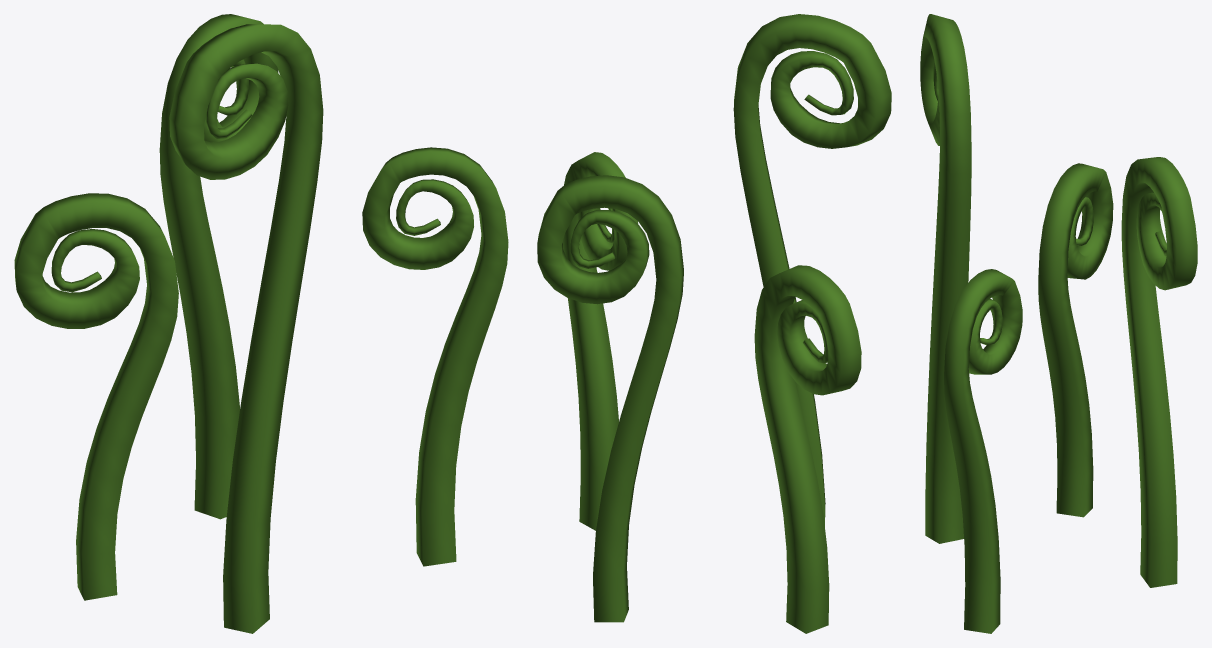
The model's file is Plant_3-transformed.glb.
3 renders of one model, left to right at view 1: azimuth 30°, elevation 25°; view 2: azimuth 150°, elevation 25°; view 3: azimuth 270°, elevation 25°, orthographic. The views are drawn at different scales.
Visible parts, largest first — view 1: Plant_3; view 2: Plant_3; view 3: Plant_3.
Boxes of the visible parts, bbox=[...] form: Plant_3: bbox=[14, 14, 508, 633]; Plant_3: bbox=[537, 14, 891, 633]; Plant_3: bbox=[920, 14, 1197, 633].
Bounding box in the file's own units: 2.12 × 2.98 × 1.44.
1 material, 1 textured.
